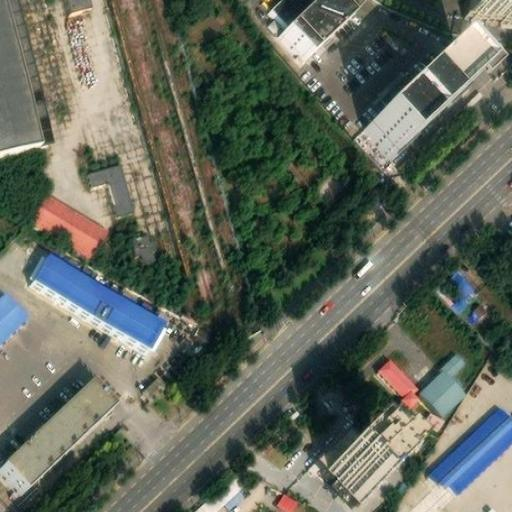building: (30, 252, 175, 345), (358, 59, 465, 157), (429, 398, 512, 491), (28, 186, 107, 254), (328, 430, 399, 493), (185, 461, 248, 512), (421, 346, 471, 408), (429, 262, 481, 314), (89, 157, 135, 211), (378, 353, 422, 406), (128, 229, 158, 264), (135, 371, 167, 402), (461, 299, 487, 324), (470, 0, 512, 13), (276, 485, 298, 506)
